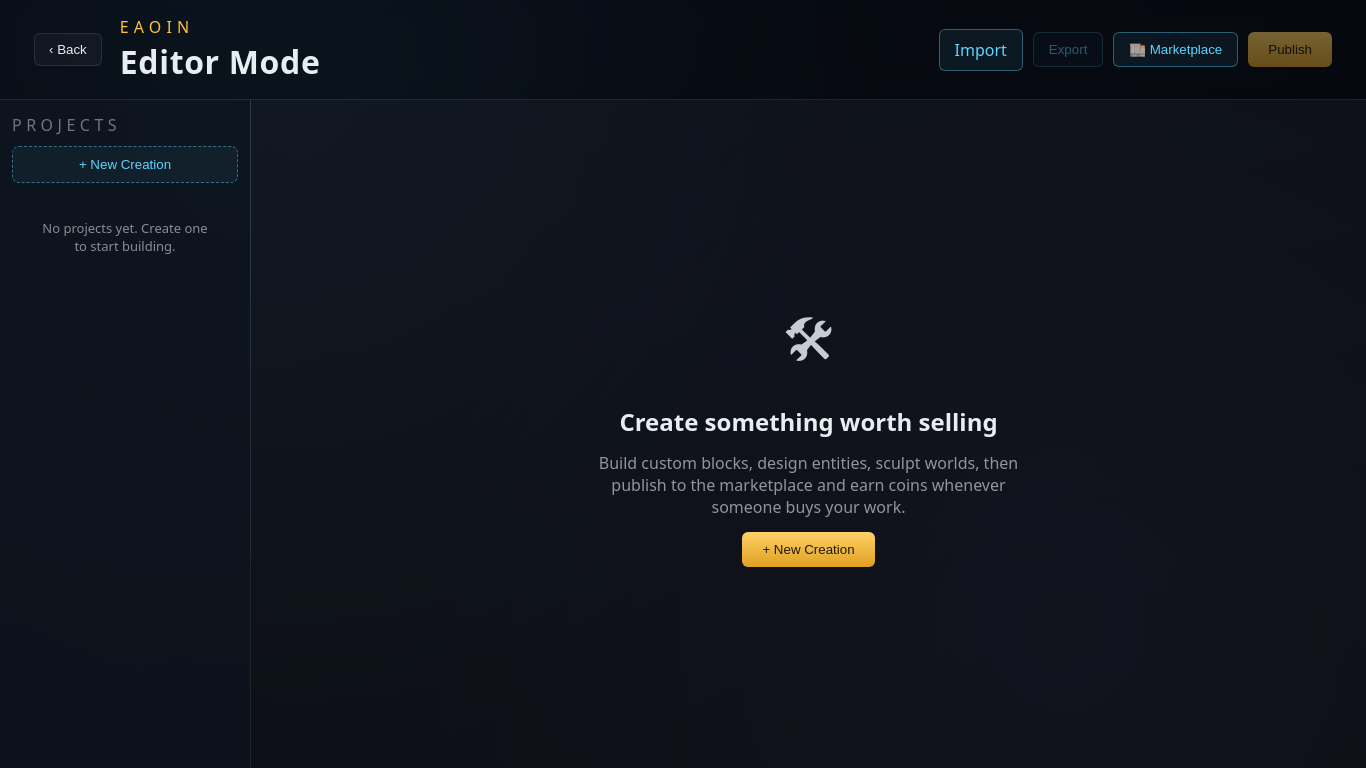
Test: EditorScreen › adds a custom entity and spawns it into the preview
The image size is (1366, 768).
Click the 1st button "+ New Creation": (125, 164) [12,146,238,183]
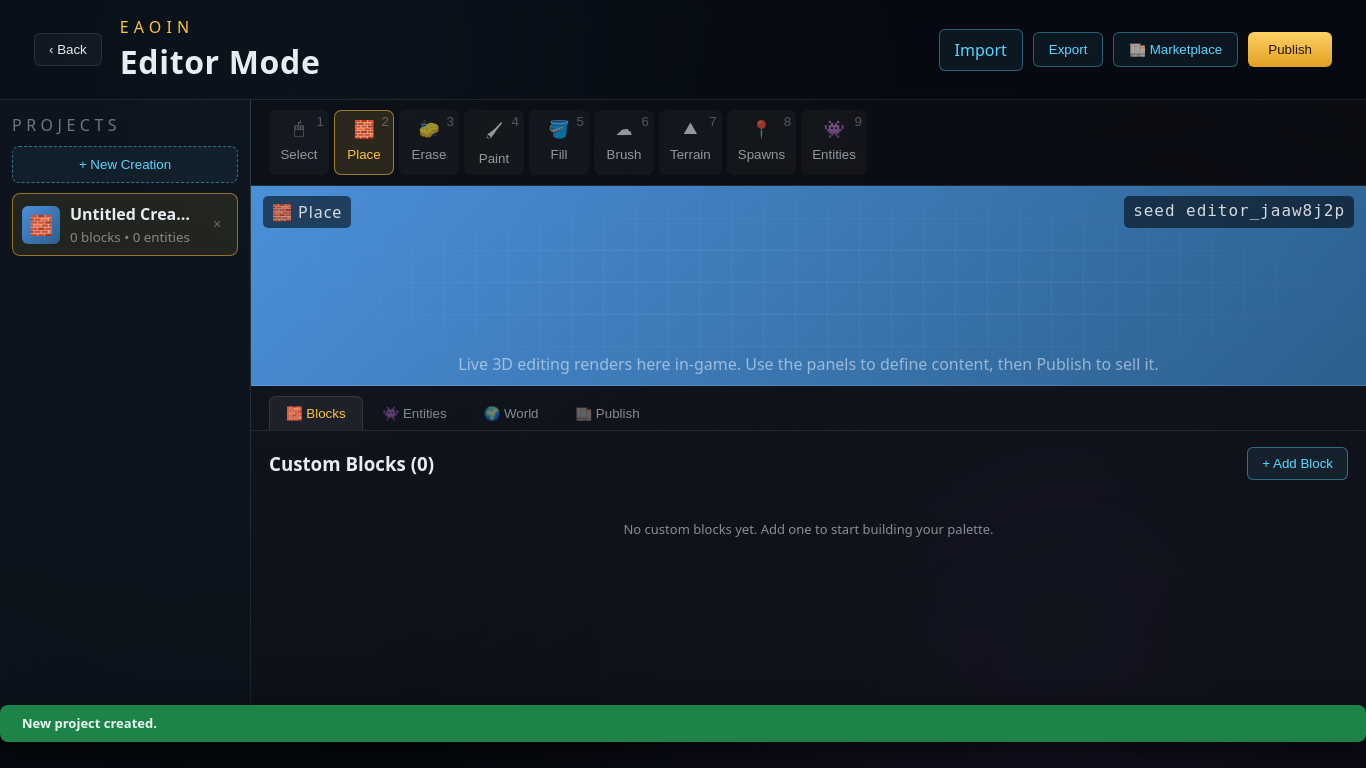
Click the tab "👾 Entities": (415, 413) [366,396,464,430]
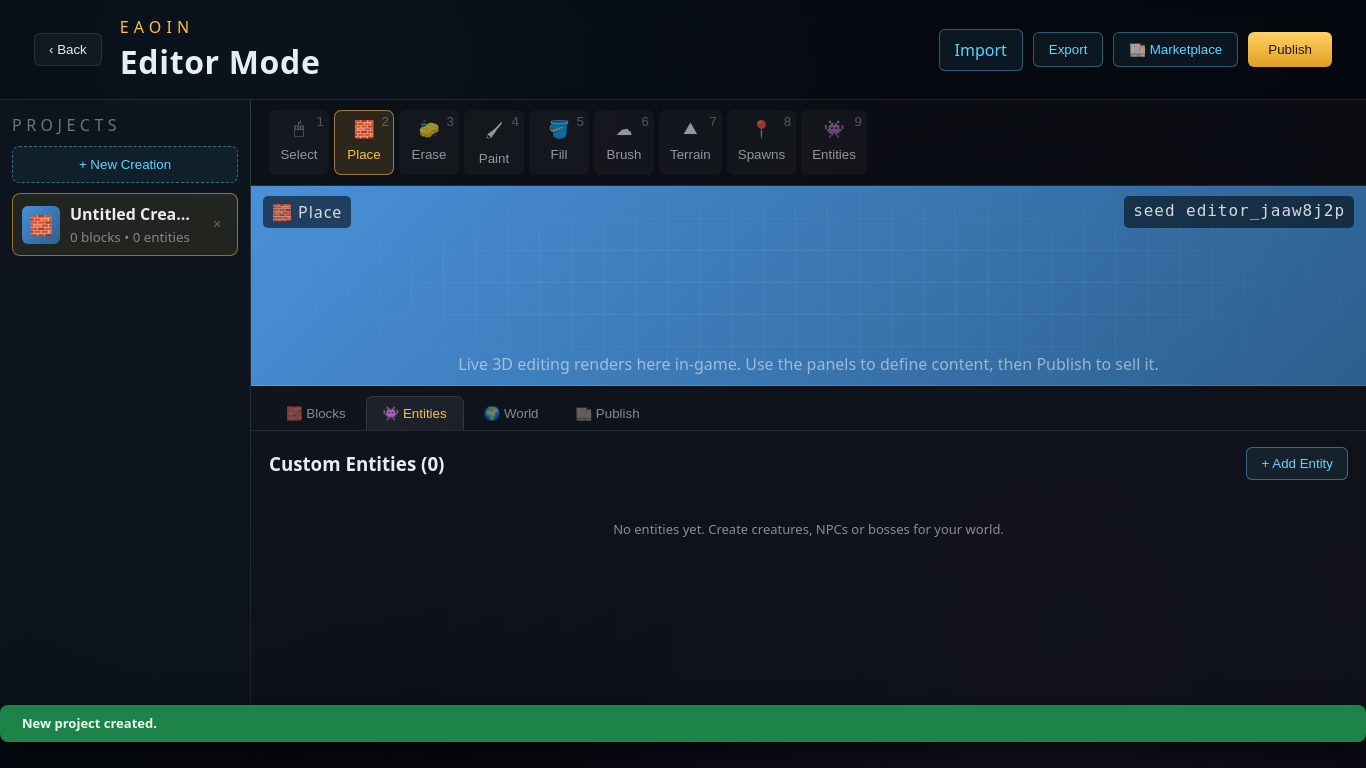
Click the button "+ Add Entity": (1297, 463) [1246,447,1348,480]
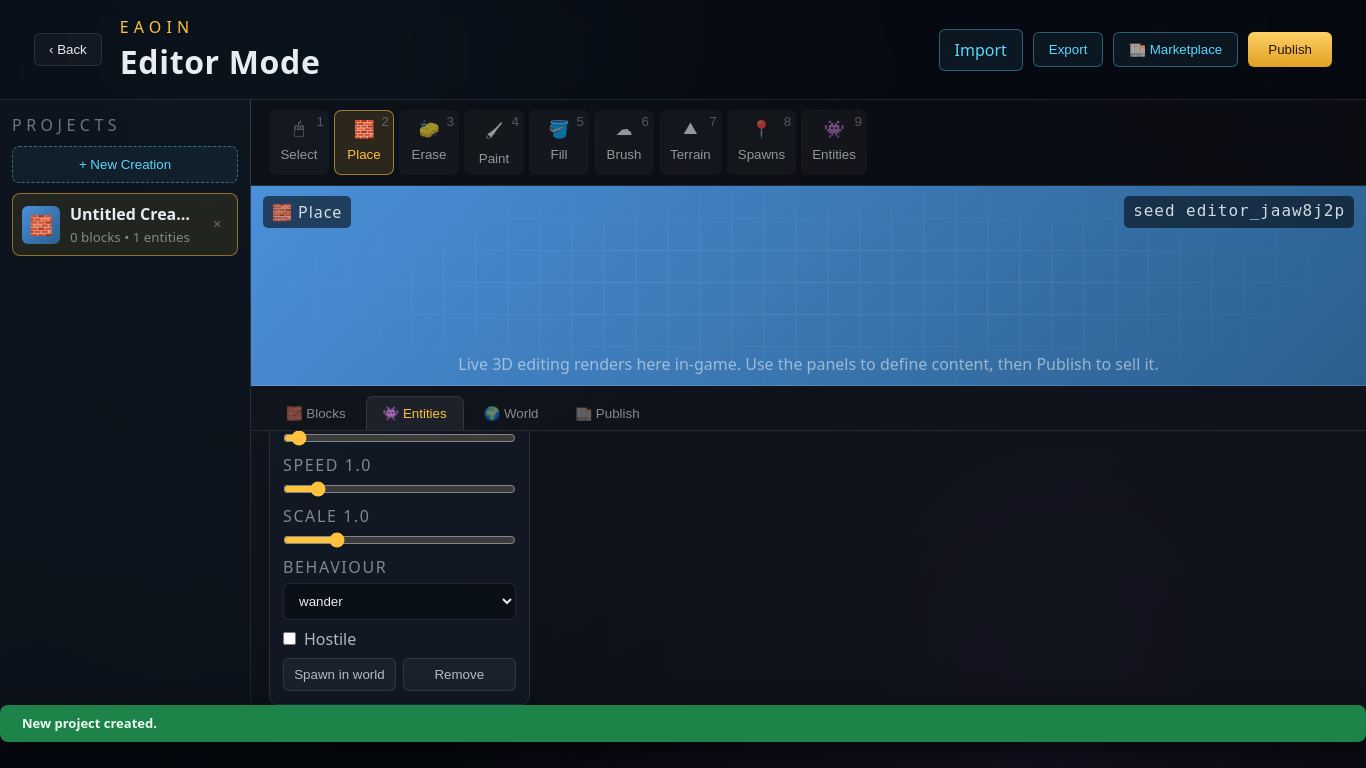
Click the button "Spawn in world": (339, 674) [283,658,396,691]
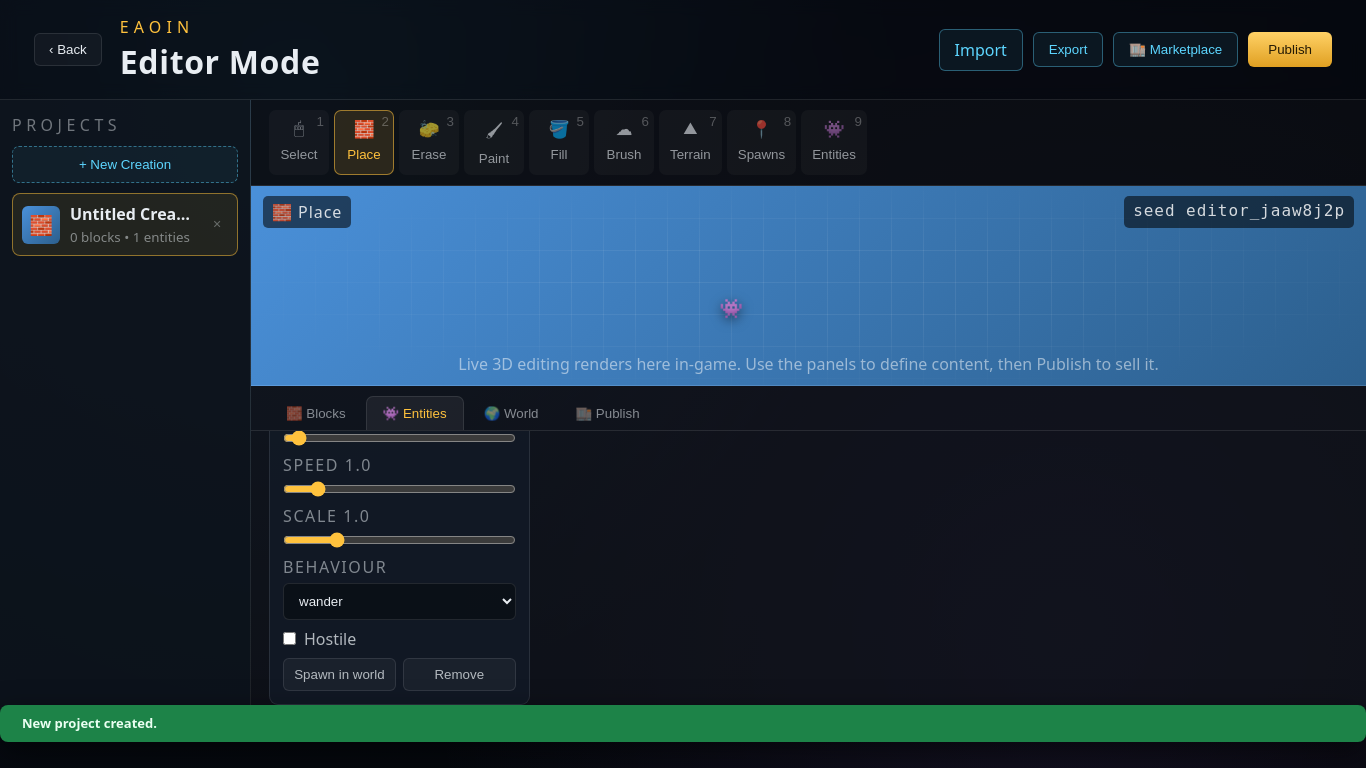
Expected: the number of elements with class "ed-placed-entity" is 1, [719,295,743,321]
